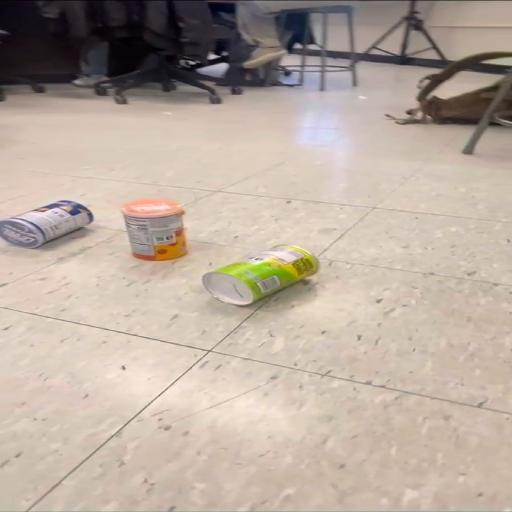pringle can: (203, 245, 318, 305), (0, 200, 93, 248), (122, 200, 186, 260)
